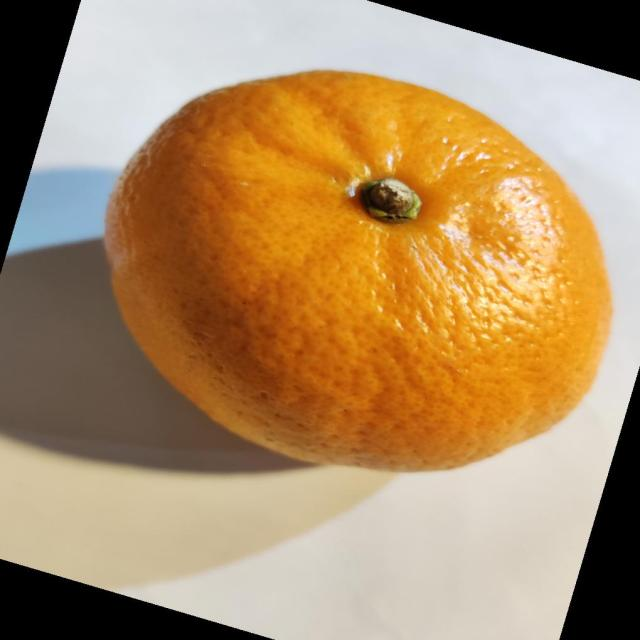fresh orange: (102, 68, 614, 474)
